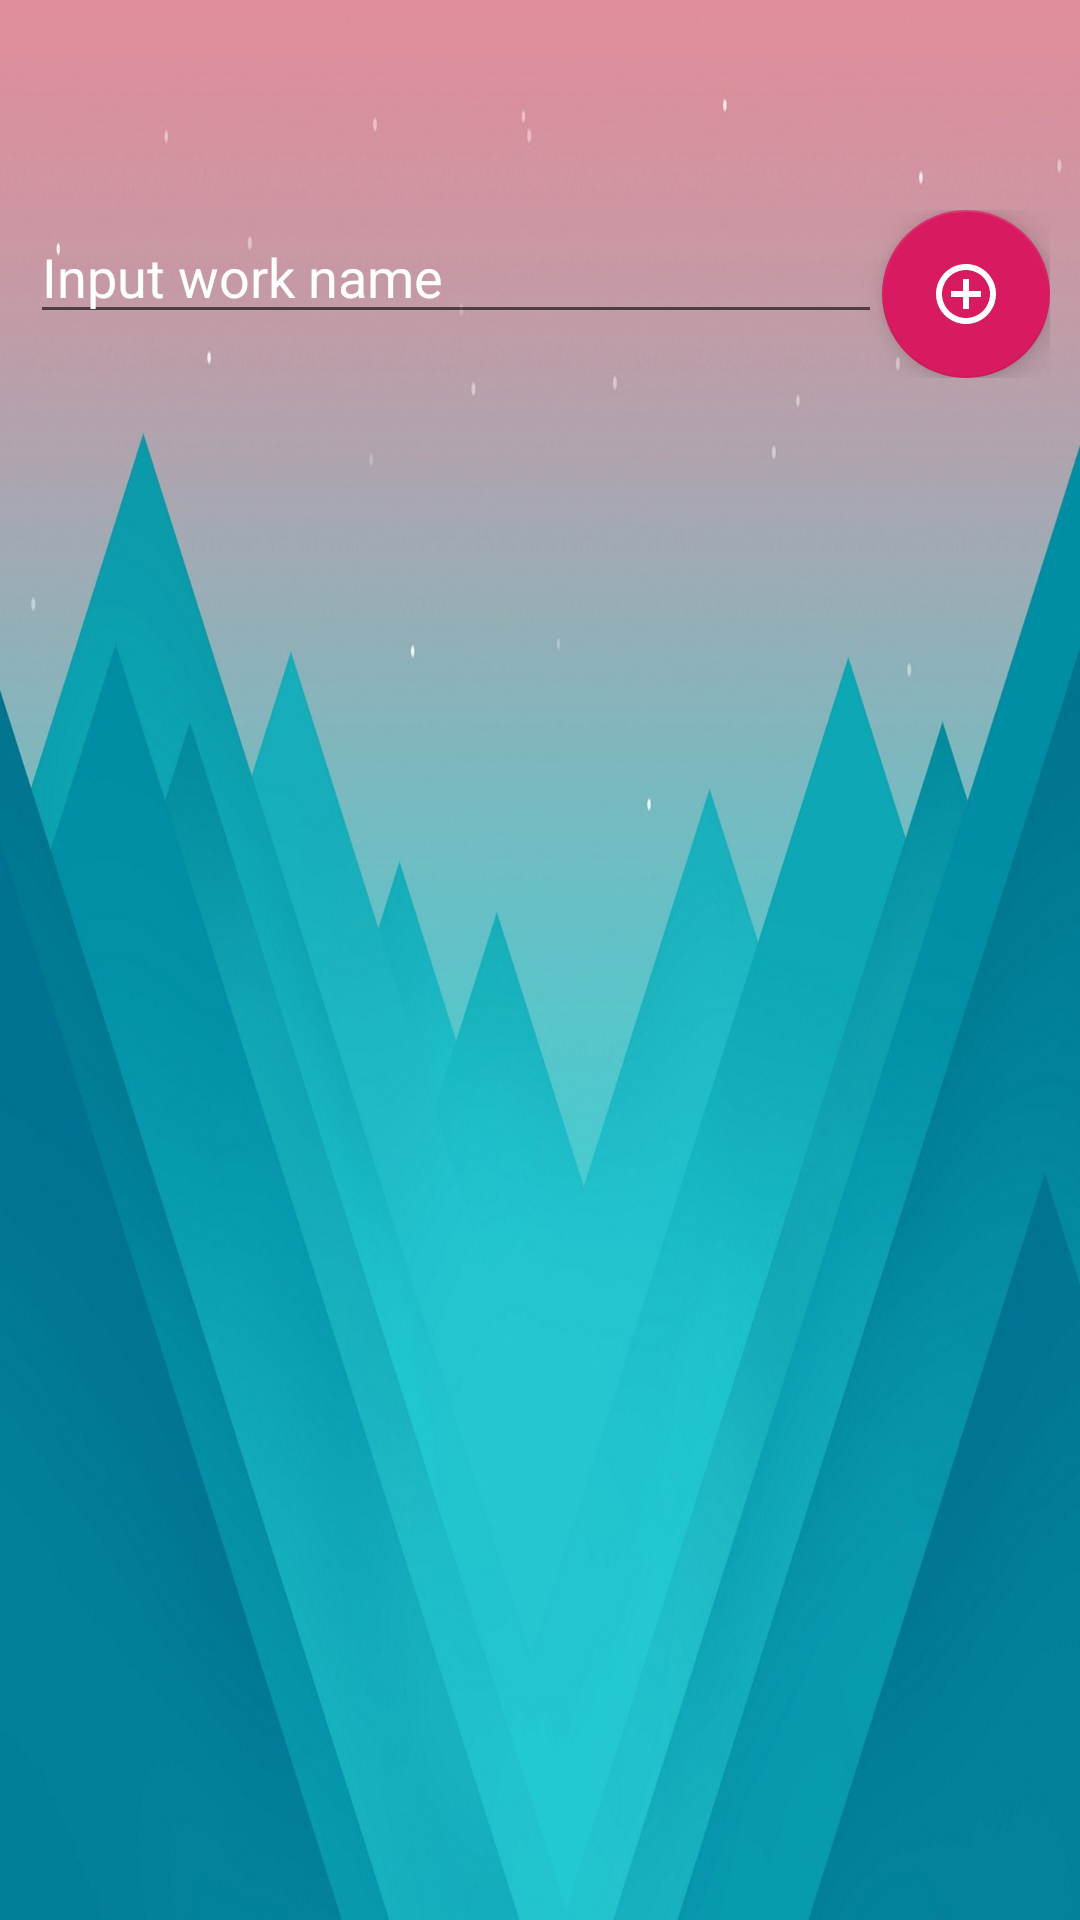

Point at icon controls on the screen. Image size 1080w x 1920h, points as point (x, y).
create work: point (966, 294)
